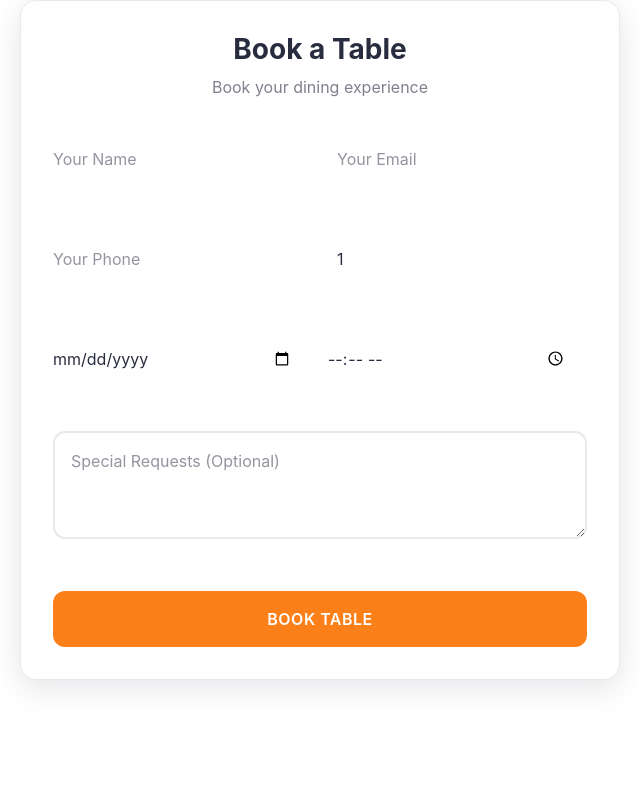
Test: Restaurant Reservation System Tests › ReservationForm shows validation errors for empty fields
The width and height of the screenshot is (641, 787).
Click the button with test id "submit-button": (320, 619) [53,591,587,647]
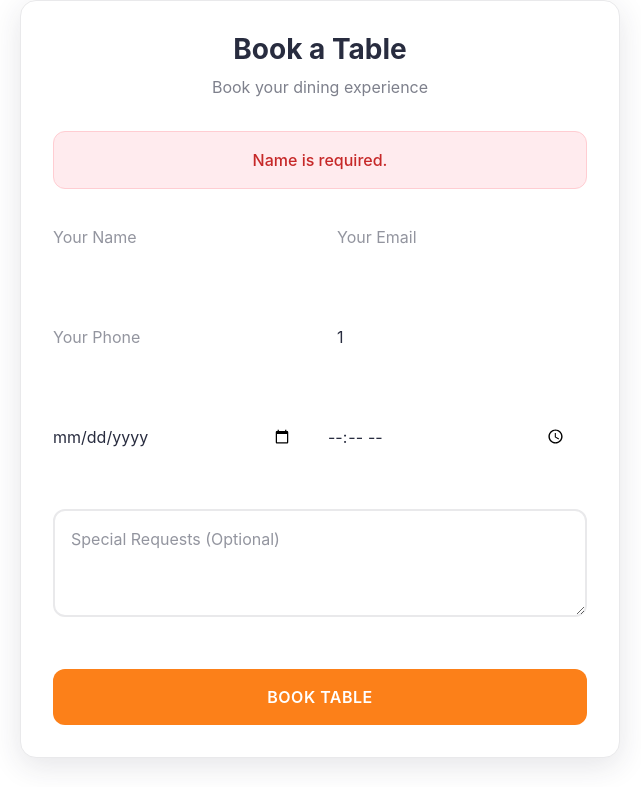
Expected: the text "Name is required." is shown, [53,131,587,189]
